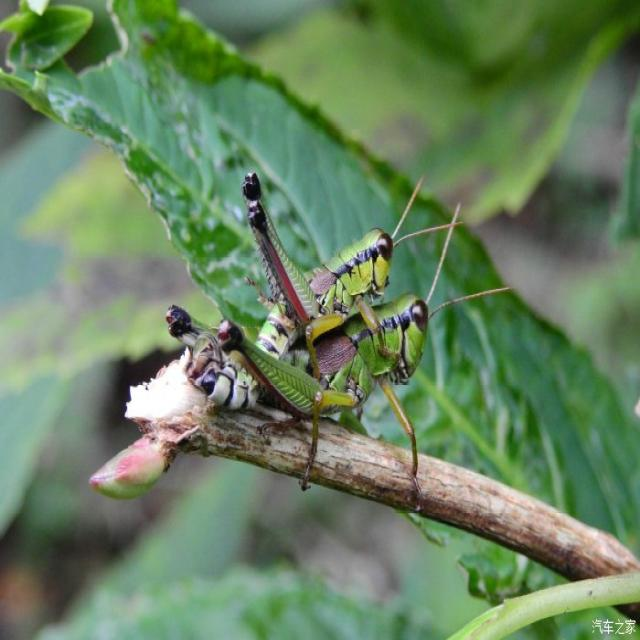ZhaMeng: (211, 125, 457, 396)
